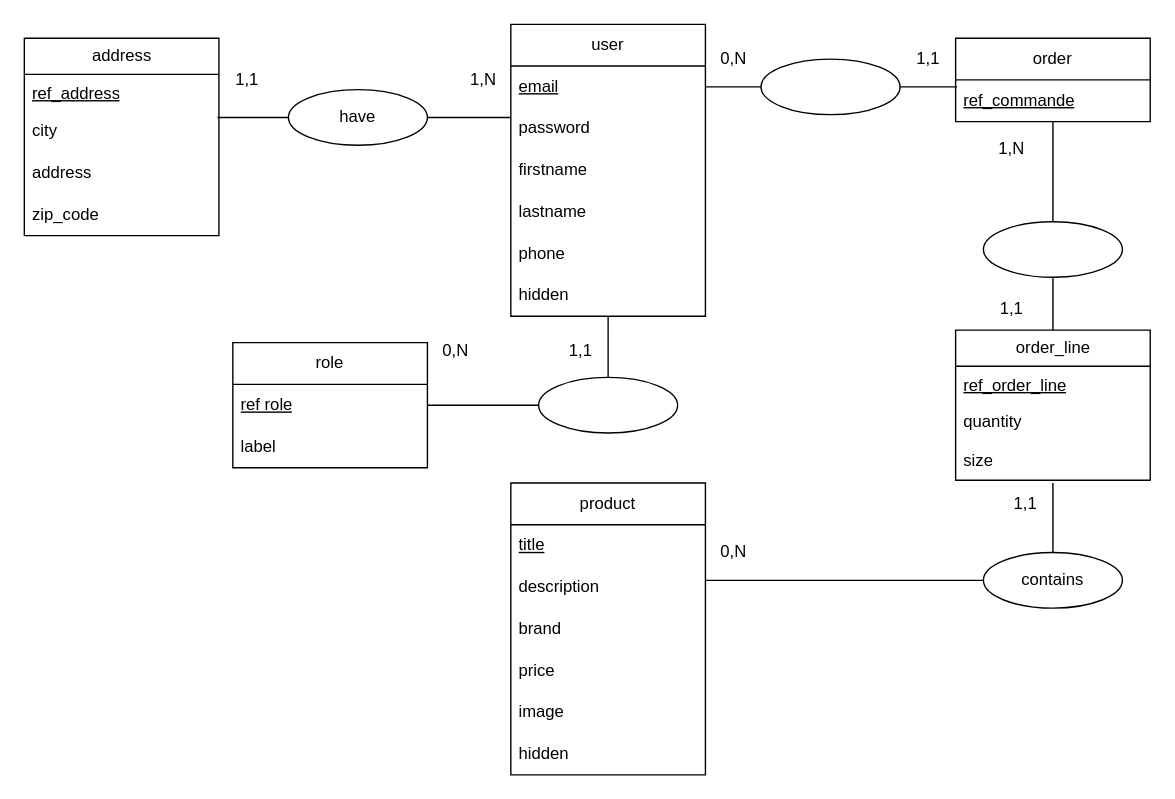
This 1175x799 diagram has some shape labels left out. Each missing label, with the centre of its shape:
include: the point at 1052,248
is: the point at 607,404
receive: the point at 830,86
